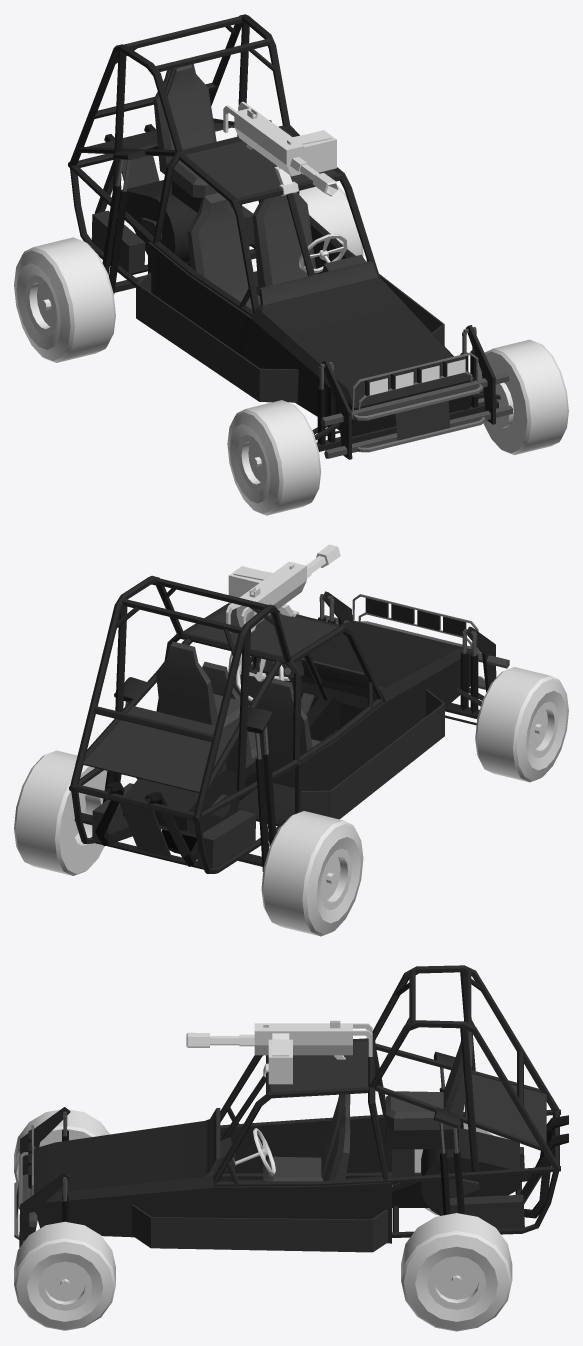
File: Car3.fbx
The picture shows the model from 3 angles, top to bottom: view 1: azimuth 30°, elevation 25°; view 2: azimuth 150°, elevation 25°; view 3: azimuth 270°, elevation 25°; orthographic projection. The views are drawn at different scales.
Visible parts, largest first — view 1: CarBody, BR, FR, FL, CarGun, BL, rudder; view 2: CarBody, BR, FR, BL, CarGun; view 3: CarBody, BL, FL, CarGun, FR, rudder.
Boxes of the visible parts, <box> form: CarBody: <box>68,14,512,459</box>; BR: <box>14,237,115,362</box>; FR: <box>227,400,321,515</box>; FL: <box>478,339,568,454</box>; CarGun: <box>223,101,338,196</box>; BL: <box>299,185,363,256</box>; rudder: <box>299,234,347,272</box>; CarBody: <box>69,575,509,873</box>; BR: <box>261,811,363,936</box>; FR: <box>475,667,568,782</box>; BL: <box>14,750,107,875</box>; CarGun: <box>226,544,340,632</box>; CarBody: <box>14,965,568,1252</box>; BL: <box>401,1213,512,1331</box>; FL: <box>14,1221,115,1330</box>; CarGun: <box>186,1020,372,1084</box>; FR: <box>14,1109,109,1181</box>; rudder: <box>235,1128,275,1175</box>.
Bounding box in the file's own units: 310 × 288 × 532.
